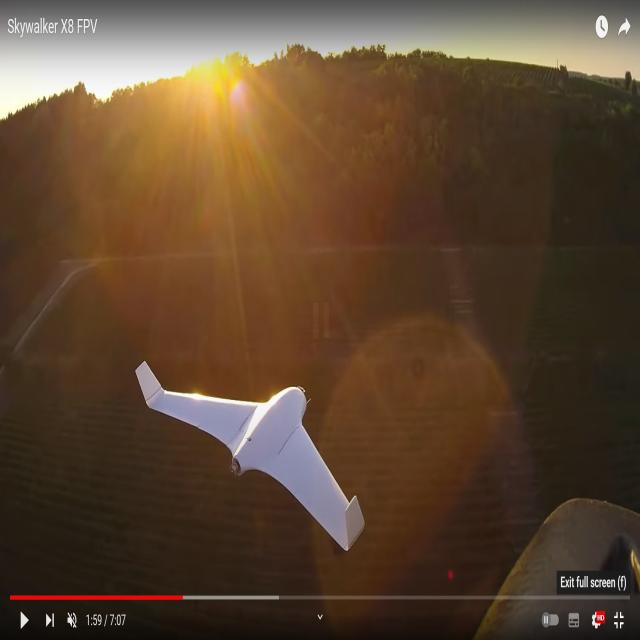iha: (135, 351, 365, 546)
